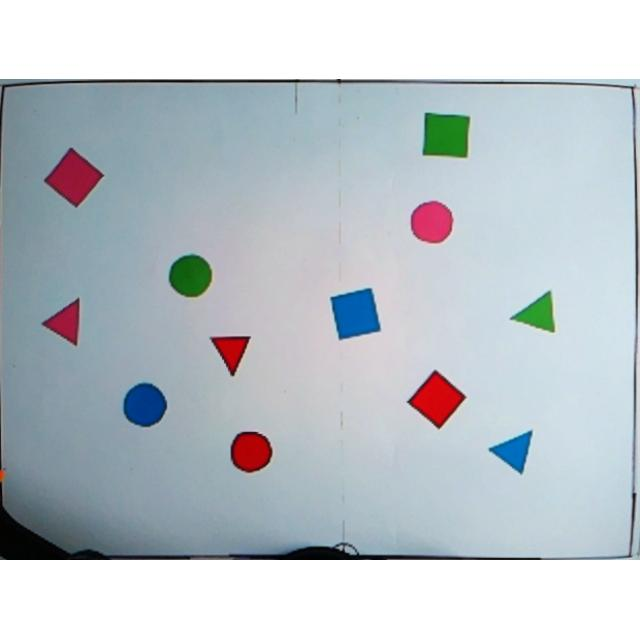blueCircle: (120, 383, 168, 431)
blueSquare: (330, 288, 382, 344)
blueTriangle: (488, 429, 534, 477)
greenCircle: (169, 254, 213, 300)
greenSquare: (421, 114, 472, 162)
greenTriangle: (509, 292, 555, 336)
pinkCircle: (410, 201, 456, 247)
pinkSquare: (42, 147, 104, 210)
pinkTriangle: (40, 297, 81, 349)
redCircle: (228, 429, 274, 476)
redSquare: (404, 370, 468, 434)
redTriangle: (209, 332, 253, 380)
